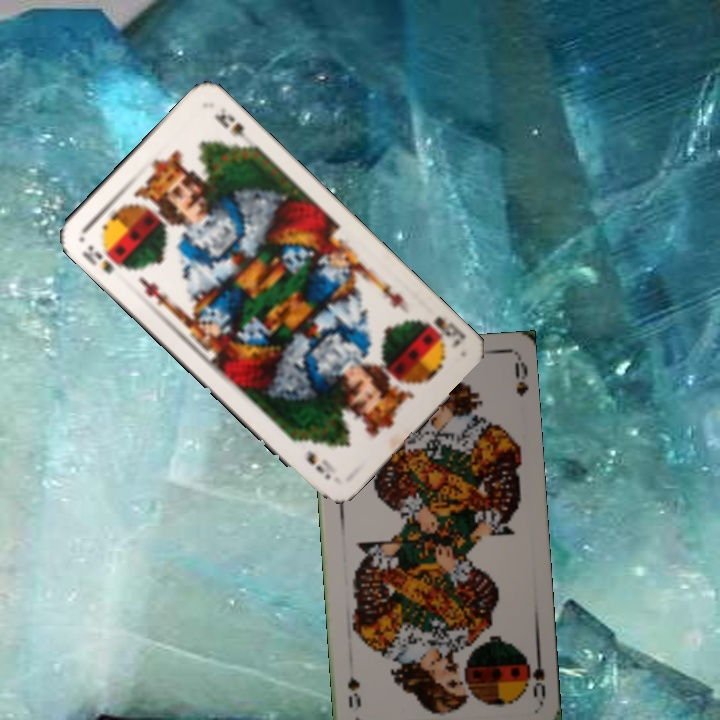SK: (413, 312, 468, 351), (78, 240, 117, 277)
SO: (522, 646, 549, 705)
